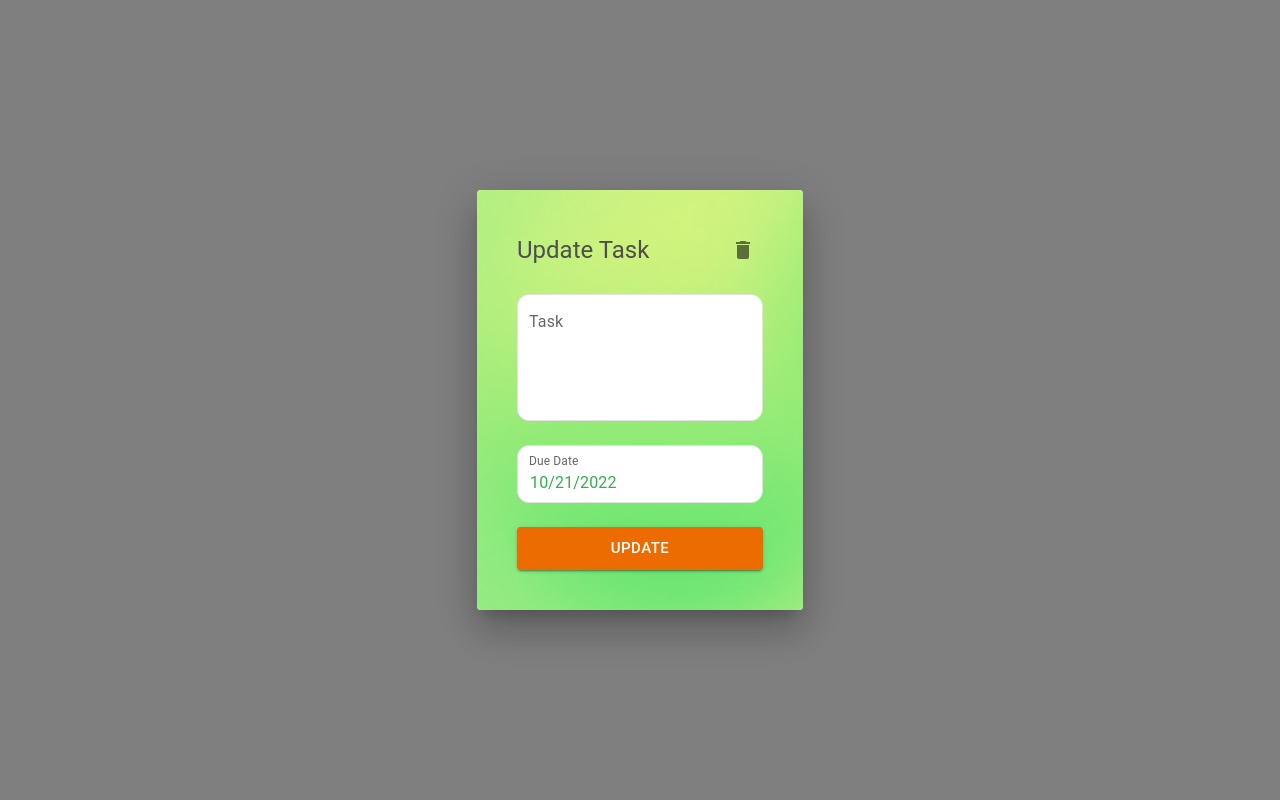
Test case: update task form › updating tasks without title
What coordinates should you click on to do the following:
click the button with test id "updateTask"
I would click on:
 (640, 549)
Its box is [517,527,763,570].
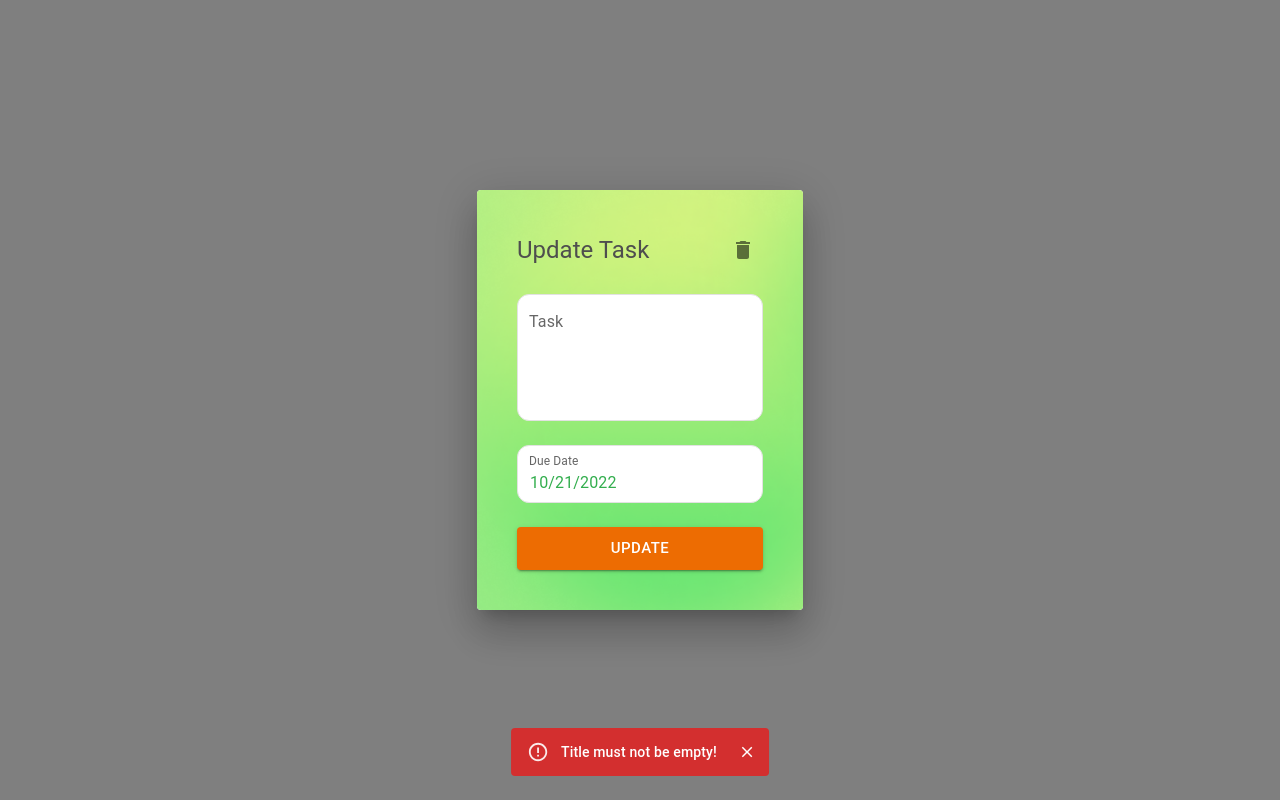
Now the text "Title must not be empty!" is shown, box [561,744,717,760]
